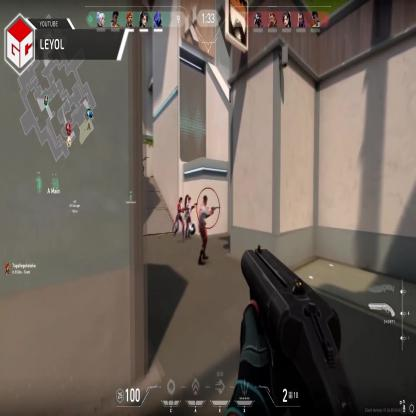enemy: (196, 198, 208, 263), (175, 196, 186, 238), (184, 197, 191, 243), (140, 152, 145, 176)
enemy_head: (204, 195, 208, 206), (188, 196, 191, 204), (178, 198, 182, 204), (140, 152, 143, 158)
